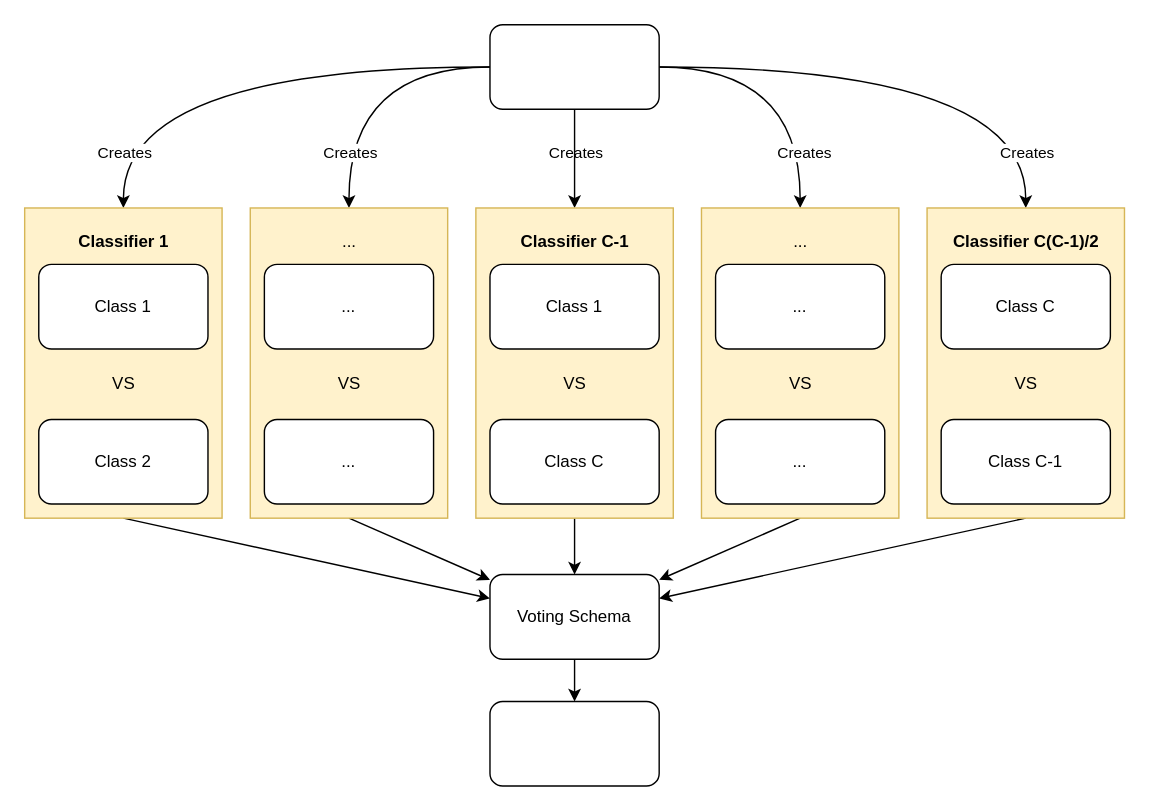
Image size: 1149x811. Some labels were removed from this diagram. The shapes that lost their labels are listed below. From the top down, each one's centre as x and y in pixels, then its label:
the point at 574,66: Given instance and C classes
the point at 574,743: Instance Class
